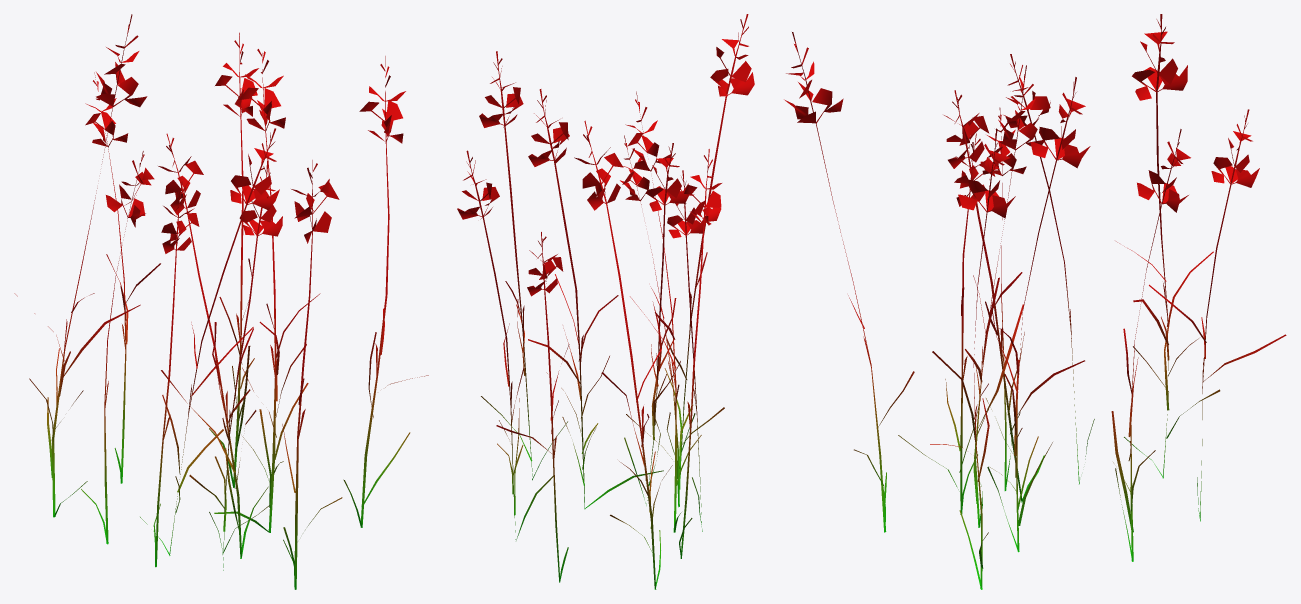
File: Tundra Grass_LOD3_Var8_wk2oaeyqx.fbx
The picture shows the model from 3 angles, left to right: view 1: azimuth 30°, elevation 25°; view 2: azimuth 150°, elevation 25°; view 3: azimuth 270°, elevation 25°; orthographic projection. The views are drawn at different scales.
Visible parts, largest first — view 1: _olie_Var8_LOD3; view 2: _olie_Var8_LOD3; view 3: _olie_Var8_LOD3.
Boxes of the visible parts, x1=… form: _olie_Var8_LOD3: x1=14, y1=14, x2=428, y2=589; _olie_Var8_LOD3: x1=457, y1=14, x2=754, y2=589; _olie_Var8_LOD3: x1=784, y1=14, x2=1286, y2=589.
Bounding box in the file's own units: 45.11 × 71.12 × 64.52.
